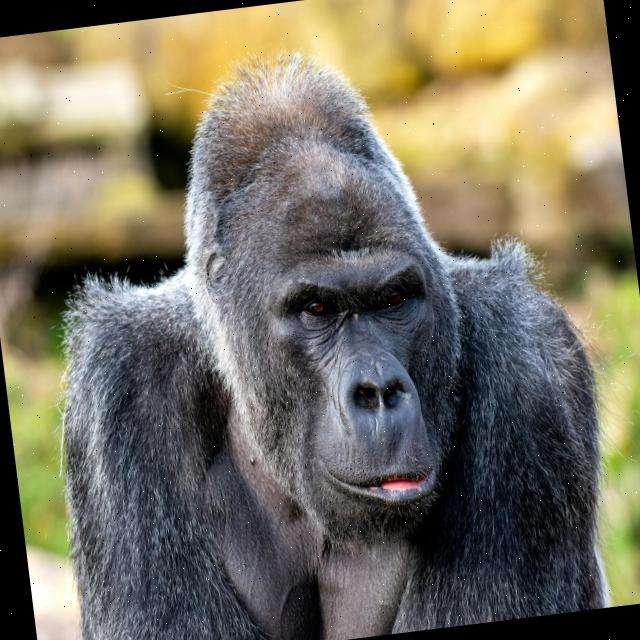Gorilla: (15, 17, 626, 640)
